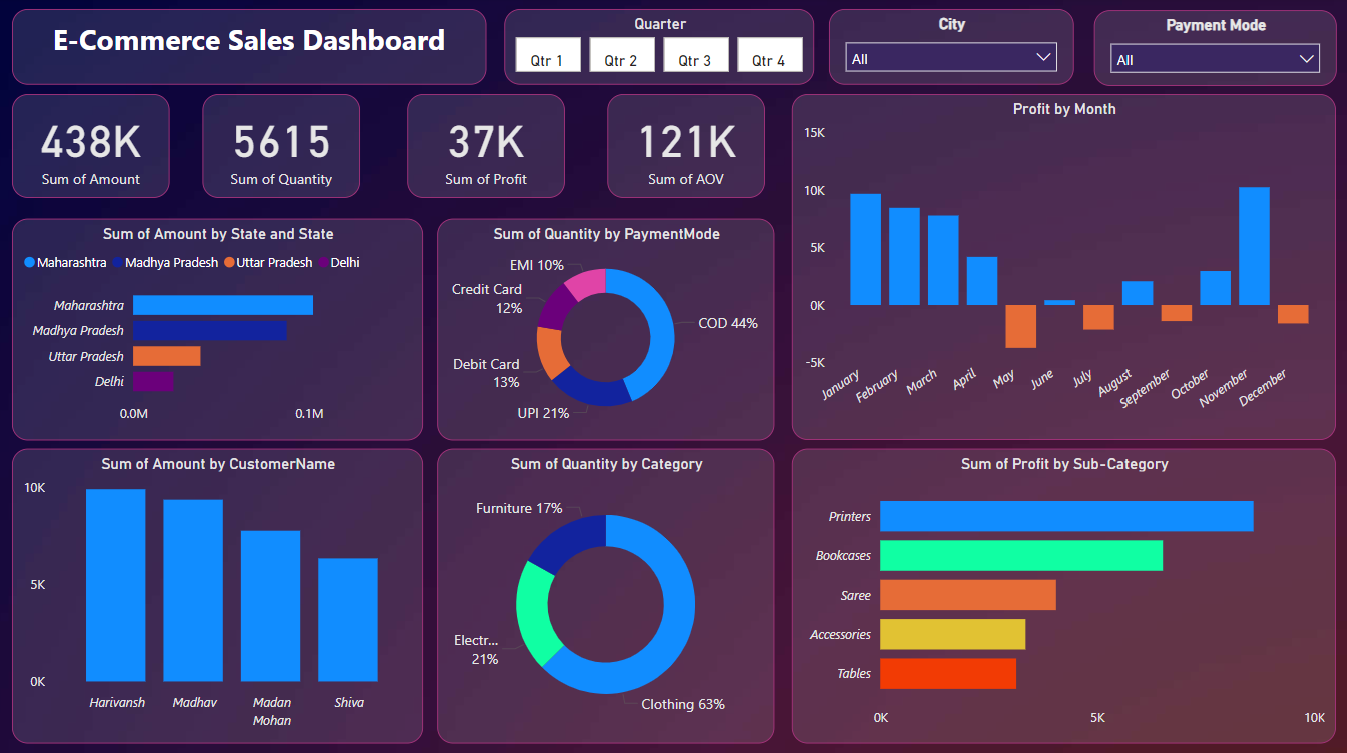

Layout of this report page (visuals, bound fields, positions):
{"tool":"powerbi","page":{"name":"Page 1","canvas":[1280,720],"ordinal":0},"visuals":[{"type":"textbox","box":[11.4,11.4,449.8,71.6],"z":0},{"type":"columnChart","title":"Profit by Month","fields":{"Y":["Sum(Details.Profit)"],"Category":["Orders.Order Date.Variation.Date Hierarchy.Month"]},"box":[750.8,92.3,515.4,327.7],"z":1000},{"type":"barChart","fields":{"Category":["Details.Sub-Category"],"Y":["Sum(Details.Profit)"]},"box":[750.8,427.9,515.4,279.9],"z":2000},{"type":"donutChart","fields":{"Category":["Details.Category"],"Y":["Sum(Details.Quantity)"]},"box":[415.1,427.9,319.7,279.9],"z":3000},{"type":"donutChart","fields":{"Category":["Details.PaymentMode"],"Y":["Sum(Details.Quantity)"]},"box":[415.1,210,319.7,210],"z":4000},{"type":"card","fields":{"Values":["Sum(Details.Amount)"]},"box":[11.1,92.3,149.5,98.6],"z":5000},{"type":"card","fields":{"Values":["Sum(Details.Quantity)"]},"box":[192.5,92.3,149.5,98.6],"z":6000},{"type":"card","fields":{"Values":["Sum(Details.Profit)"]},"box":[386.5,92.3,149.5,98.6],"z":7000},{"type":"card","fields":{"Values":["Sum(Details.Avg Order Value(AOV))"]},"box":[575.8,92.3,149.5,98.6],"z":8000},{"type":"barChart","fields":{"Category":["Orders.State"],"Y":["Sum(Details.Amount)"],"Series":["Orders.State"]},"box":[11.1,210,389.7,210],"z":9000},{"type":"columnChart","fields":{"Category":["Orders.CustomerName"],"Y":["Sum(Details.Amount)"]},"box":[11.1,427.9,389.7,279.9],"z":10000},{"type":"advancedSlicerVisual","fields":{"Values":["Orders.Order Date.Variation.Date Hierarchy.Quarter"]},"box":[478.2,11.4,294.2,71.6],"z":11000},{"type":"slicer","title":"City","fields":{"Values":["Orders.City"]},"box":[786.1,11.4,231.7,71.6],"z":12000},{"type":"slicer","title":"Payment Mode","fields":{"Values":["Details.PaymentMode"]},"box":[1037.2,12.5,229.5,71.6],"z":12001}]}

Visuals, with their boxes in screenshot pixels (x1, y1, x2, y2), scaled from the page's 1280x720 canvas onto the 1347x753 screenshot:
textbox: Rect(12, 12, 485, 87)
"Profit by Month" columnChart: Rect(790, 97, 1332, 439)
barChart - Details.Sub-Category x Sum(Details.Profit): Rect(790, 448, 1332, 740)
donutChart - Details.Category x Sum(Details.Quantity): Rect(437, 448, 773, 740)
donutChart - Details.PaymentMode x Sum(Details.Quantity): Rect(437, 220, 773, 439)
card - Sum(Details.Amount): Rect(12, 97, 169, 200)
card - Sum(Details.Quantity): Rect(203, 97, 360, 200)
card - Sum(Details.Profit): Rect(407, 97, 564, 200)
card - Sum(Details.Avg Order Value(AOV)): Rect(606, 97, 763, 200)
barChart - Orders.State x Sum(Details.Amount): Rect(12, 220, 422, 439)
columnChart - Orders.CustomerName x Sum(Details.Amount): Rect(12, 448, 422, 740)
advancedSlicerVisual - Orders.Order Date.Variation.Date Hierarchy.Quarter: Rect(503, 12, 813, 87)
"City" slicer: Rect(827, 12, 1071, 87)
"Payment Mode" slicer: Rect(1091, 13, 1333, 88)
